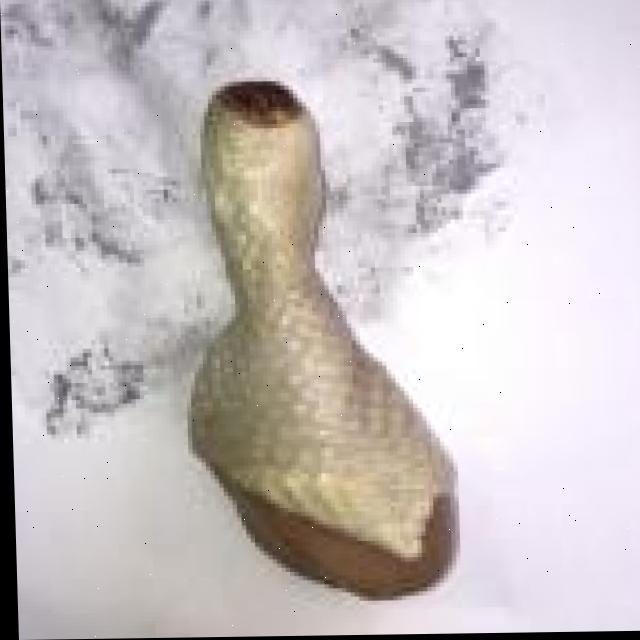leg: (180, 69, 466, 596)
